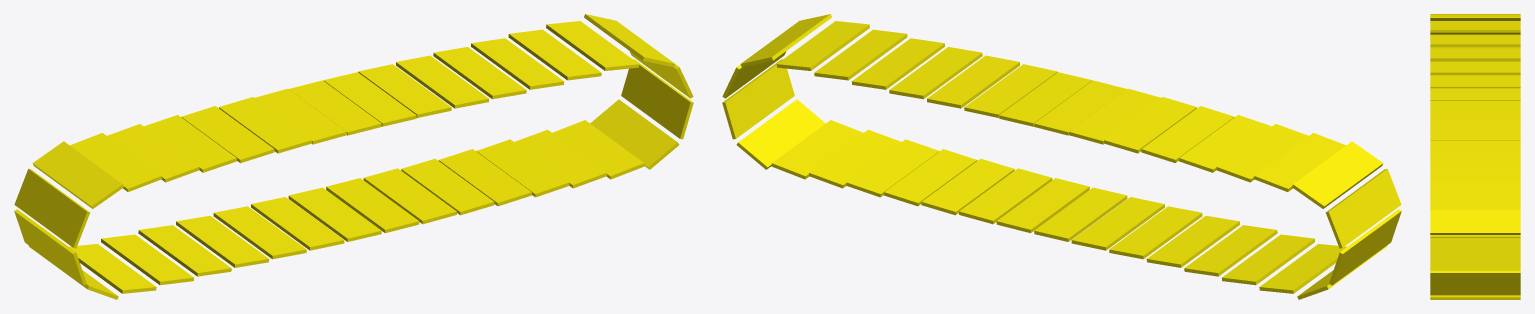
The model's file is Conveyor_moving_Belt.glb.
The picture shows the model from 3 angles, left to right: view 1: azimuth 30°, elevation 25°; view 2: azimuth 150°, elevation 25°; view 3: azimuth 270°, elevation 25°; orthographic projection. The views are drawn at different scales.
Parts seen in each view (by area): view 1: Cube.008, Cube.007, Cube.025, Cube.026, Cube.024, Cube.023, Cube.022, Cube.021, Cube.020, Cube.019, Cube.006, Cube.018 (+24 smaller); view 2: Cube.008, Cube.007, Cube.025, Cube.026, Cube.024, Cube.023, Cube.022, Cube.021, Cube.020, Cube.019, Cube.006, Cube.018 (+24 smaller); view 3: Cube.027, Cube.028, Cube.026, Cube.034, Cube.033, Cube.032, Cube.031, Cube.030, Cube.035, Cube.029, Cube.004, Cube.003 (+12 smaller).
Boxes of the visible parts, box(x1,y1,x2,y2) form: Cube.008: box(14, 168, 90, 248); Cube.007: box(32, 141, 123, 208); Cube.025: box(590, 99, 679, 169); Cube.026: box(621, 59, 693, 139); Cube.024: box(552, 120, 644, 179); Cube.023: box(514, 129, 606, 188); Cube.022: box(476, 139, 569, 197); Cube.021: box(438, 149, 531, 206); Cube.020: box(401, 158, 494, 215); Cube.019: box(363, 168, 456, 224); Cube.006: box(70, 133, 161, 191); Cube.018: box(326, 178, 419, 233); Cube.008: box(1325, 168, 1401, 248); Cube.007: box(1292, 141, 1383, 208); Cube.025: box(736, 99, 825, 169); Cube.026: box(722, 59, 794, 139); Cube.024: box(771, 120, 863, 179); Cube.023: box(809, 129, 901, 188); Cube.022: box(846, 139, 939, 197); Cube.021: box(884, 149, 977, 206); Cube.020: box(921, 158, 1014, 215); Cube.019: box(959, 168, 1052, 224); Cube.006: box(1254, 133, 1345, 191); Cube.018: box(996, 178, 1089, 233); Cube.027: box(1430, 238, 1520, 268); Cube.028: box(1430, 210, 1520, 234); Cube.026: box(1430, 271, 1520, 295); Cube.034: box(1430, 126, 1520, 140); Cube.033: box(1430, 140, 1520, 154); Cube.032: box(1430, 154, 1520, 168); Cube.031: box(1430, 168, 1520, 182); Cube.030: box(1430, 182, 1520, 196); Cube.035: box(1430, 113, 1520, 126); Cube.029: box(1430, 196, 1520, 209); Cube.004: box(1430, 48, 1520, 61); Cube.003: box(1430, 62, 1520, 75).
Bounding box in the file's own units: 12.15 × 2.14 × 2.
36 materials, 36 textured.
